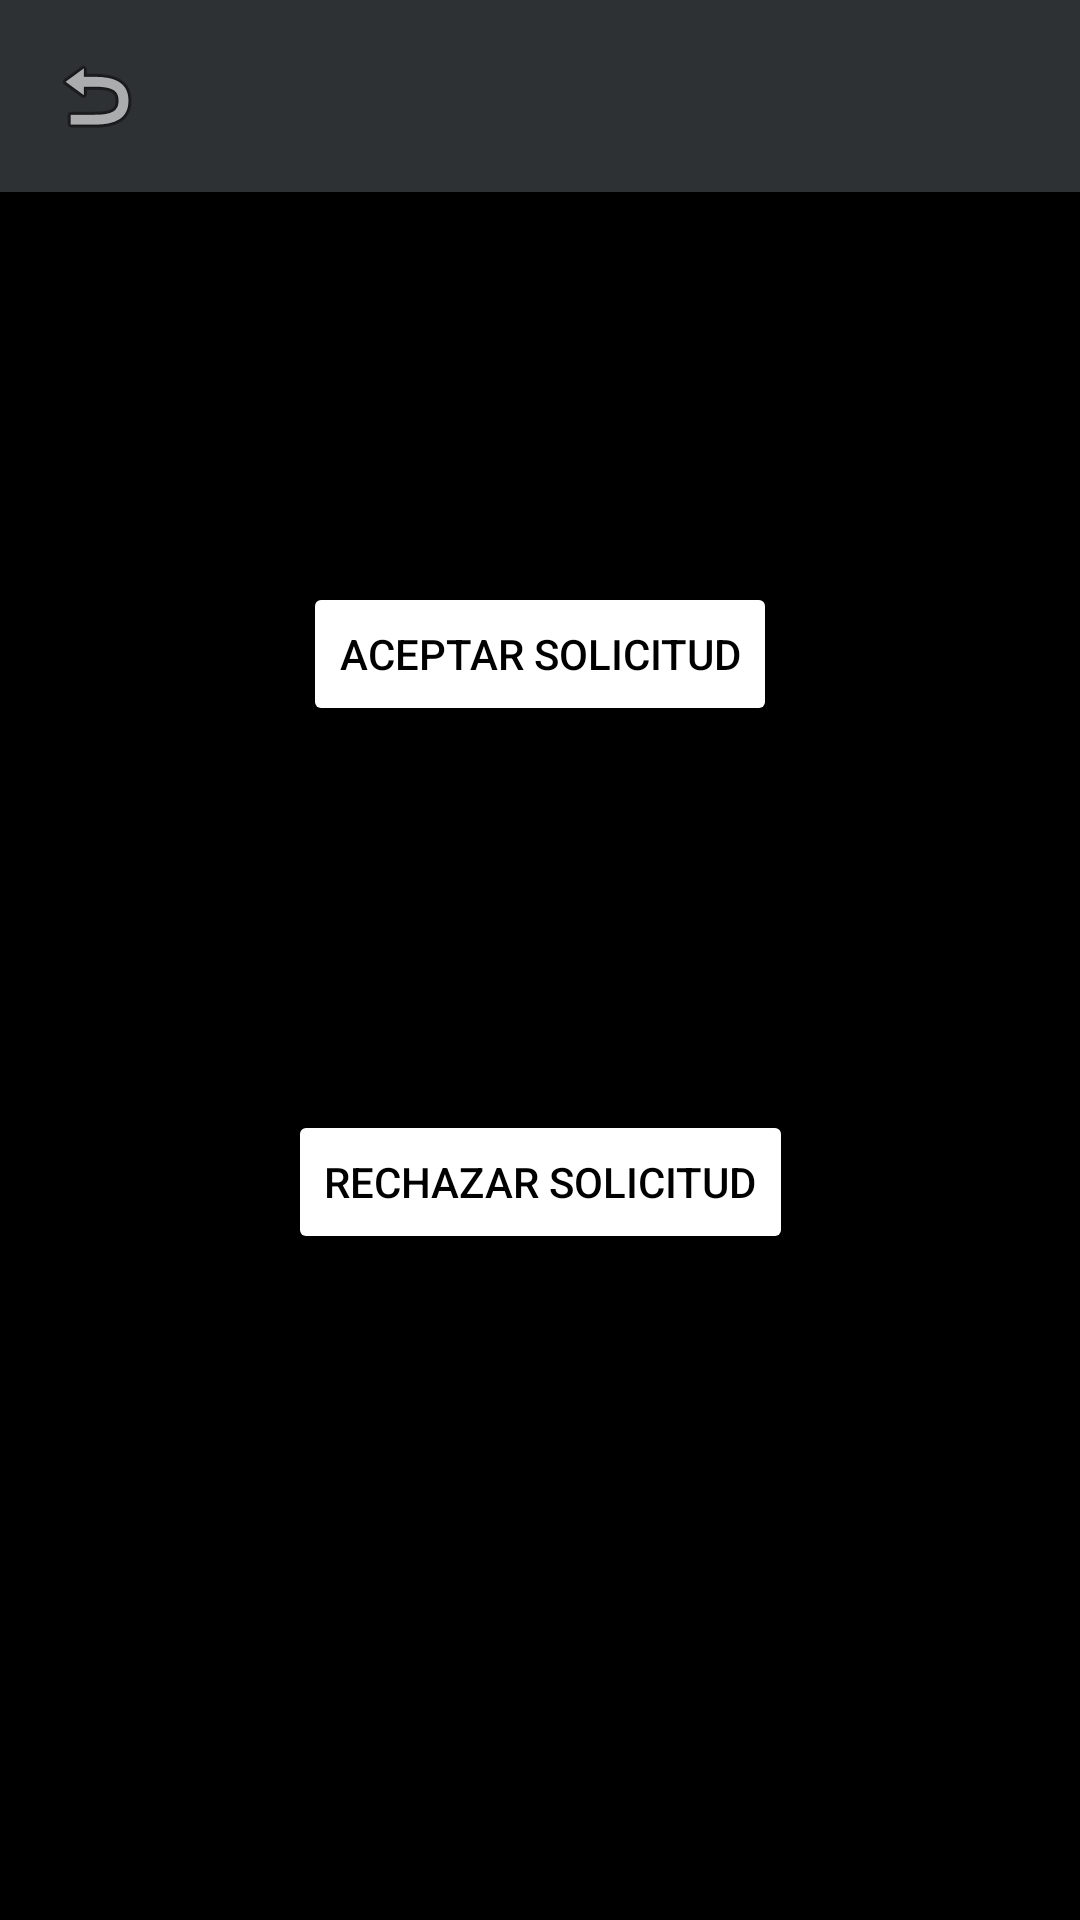

Where icons sit on this 1080x1920 app screen, as [left=x1, top=y1, right=x2, bottom=y2]:
revert: [left=65, top=68, right=130, bottom=126]
